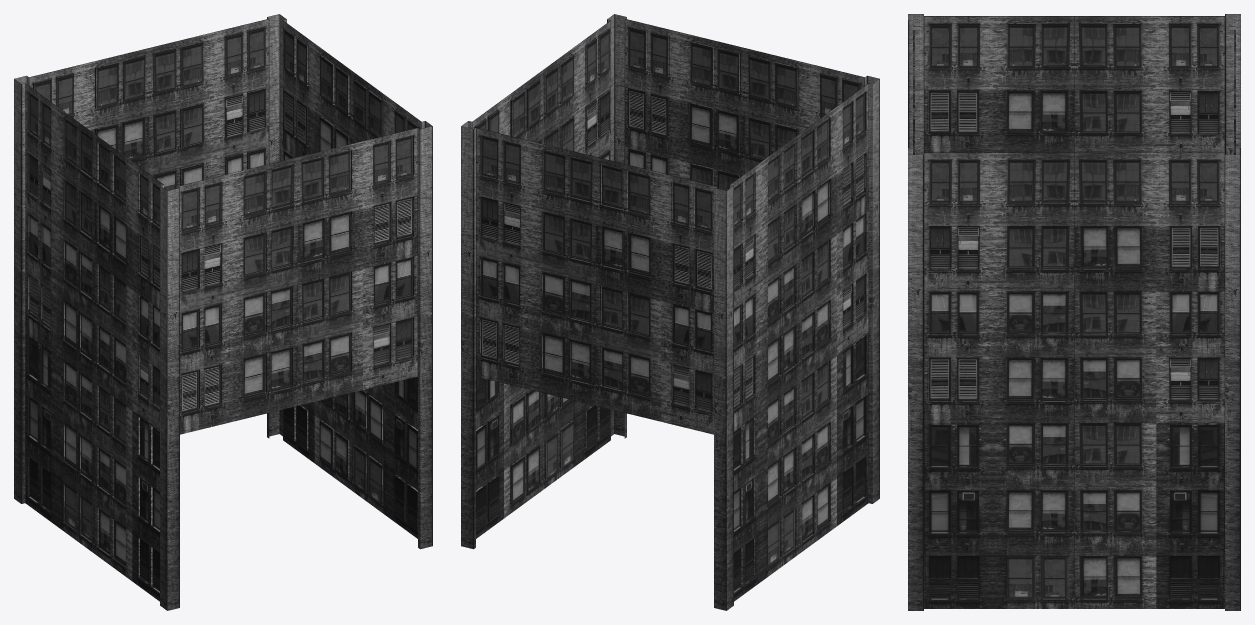
File: skidrow_building_12.fbx
3 views of the same model, side by side, from view 1: azimuth 30°, elevation 25°; view 2: azimuth 150°, elevation 25°; view 3: azimuth 270°, elevation 25° (orthographic). The views are drawn at different scales.
Visible parts, largest first — view 1: skidrow_building_12; view 2: skidrow_building_12; view 3: skidrow_building_12.
Boxes of the visible parts, x1,y1,x2,y2 form: skidrow_building_12: [14, 14, 432, 610]; skidrow_building_12: [461, 14, 879, 610]; skidrow_building_12: [908, 14, 1240, 610].
Bounding box in the file's own units: 993 × 1502 × 993.
